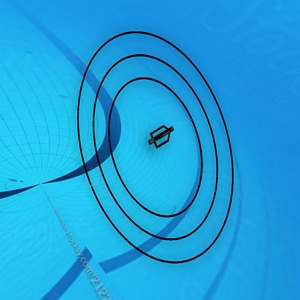circle: (77, 30, 230, 262)
submarine: (148, 125, 174, 150)
